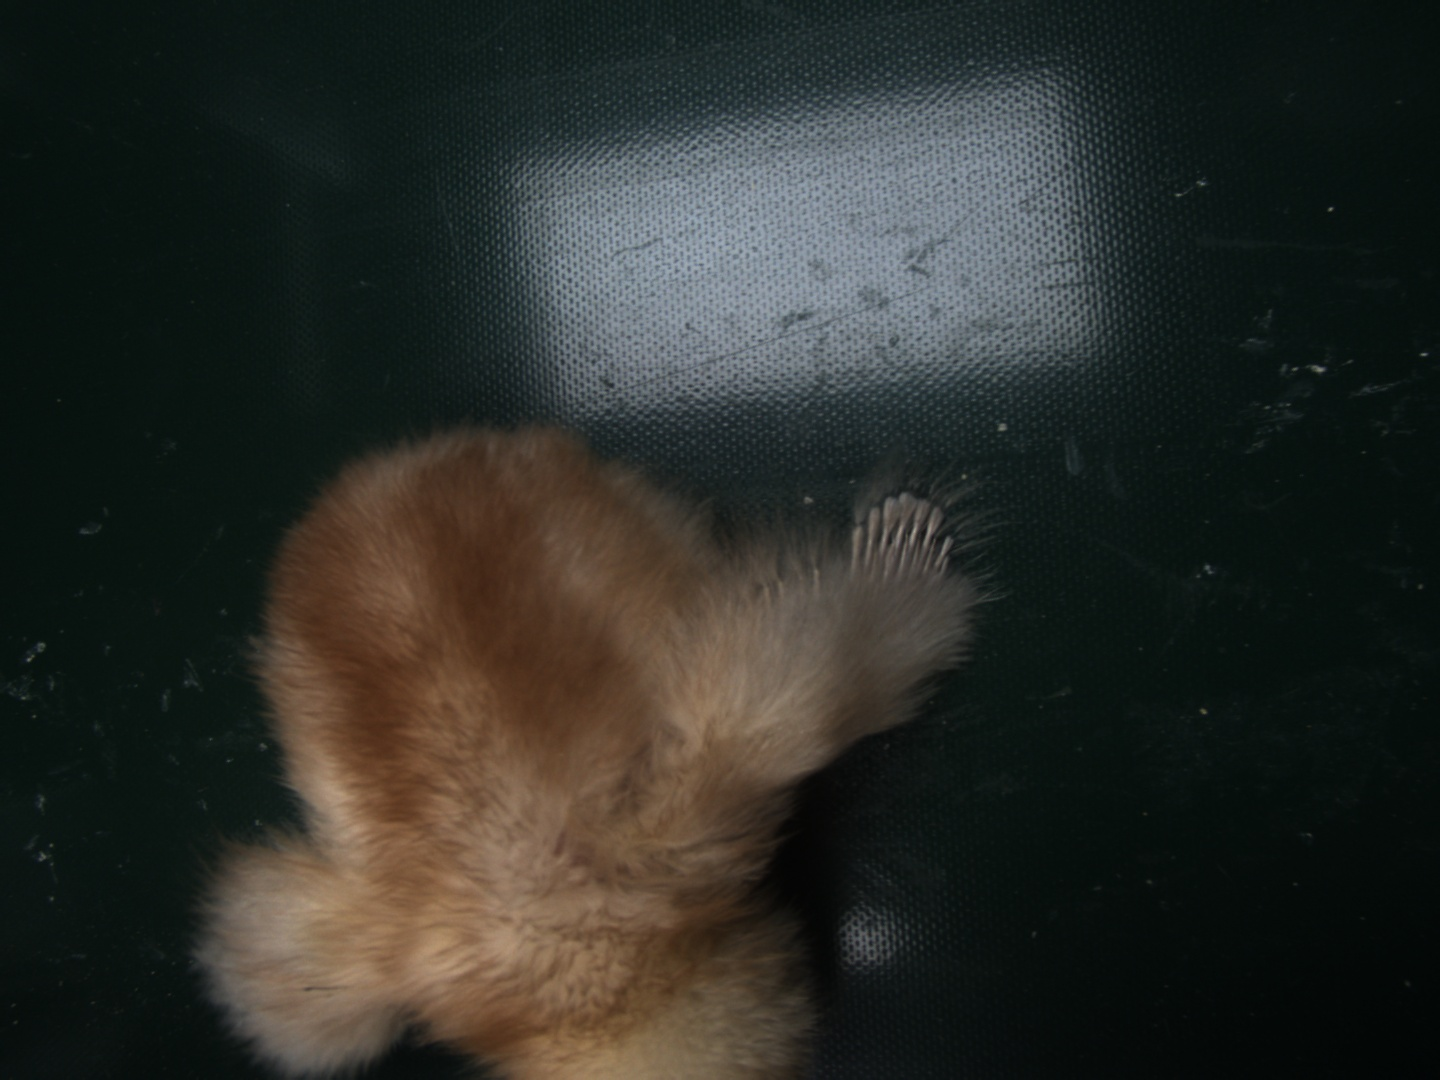female: (842, 489, 955, 592)
